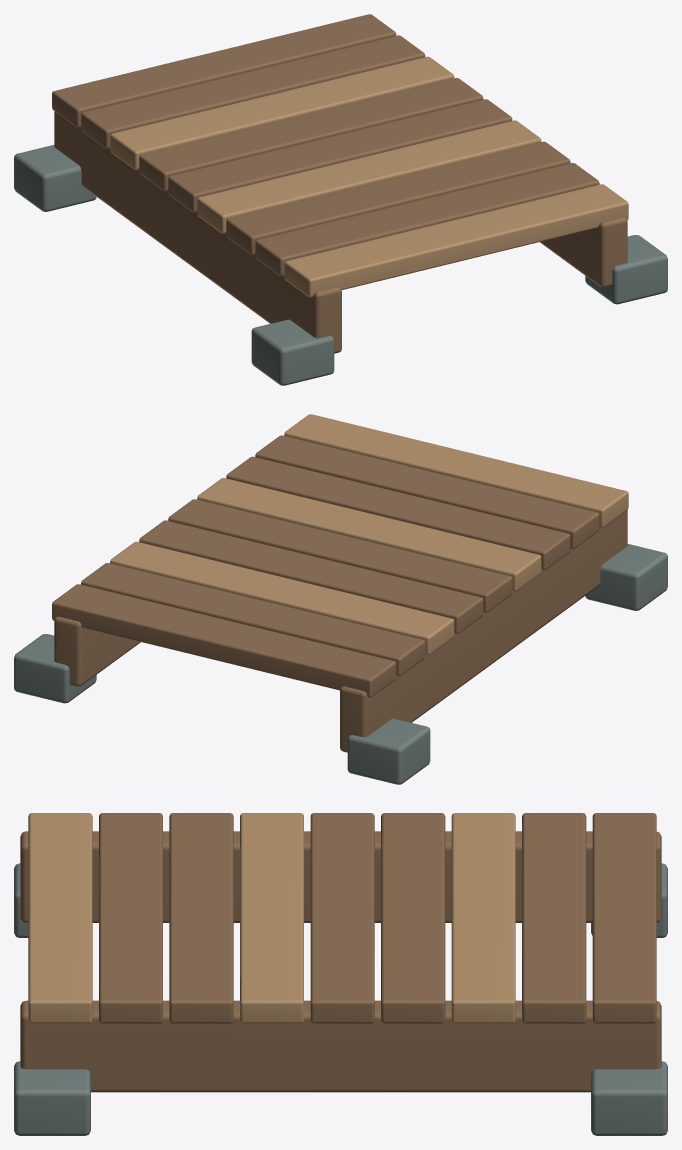
File: SM_Bridge_Segment_4m.fbx
3 views of the same model, one above another, from view 1: azimuth 30°, elevation 25°; view 2: azimuth 150°, elevation 25°; view 3: azimuth 270°, elevation 25° (orthographic). The views are drawn at different scales.
Parts seen in each view (by area): view 1: SM_Bridge_Segment_4m; view 2: SM_Bridge_Segment_4m; view 3: SM_Bridge_Segment_4m.
Boxes of the visible parts, <box> form: SM_Bridge_Segment_4m: <box>14,14,667,385</box>; SM_Bridge_Segment_4m: <box>14,414,667,784</box>; SM_Bridge_Segment_4m: <box>14,813,667,1135</box>.
Size of the model in its own units: 3.4 by 0.8 by 4.08.
